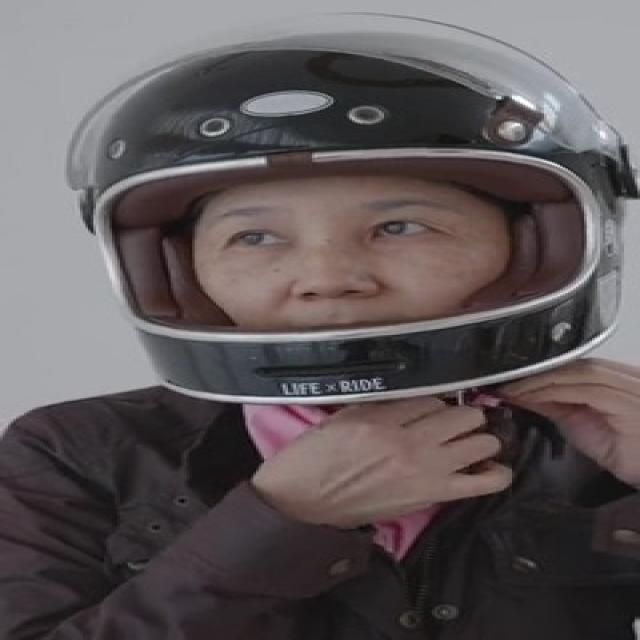Helmet_Wearer: (41, 29, 640, 411)
Person: (0, 30, 640, 634)
